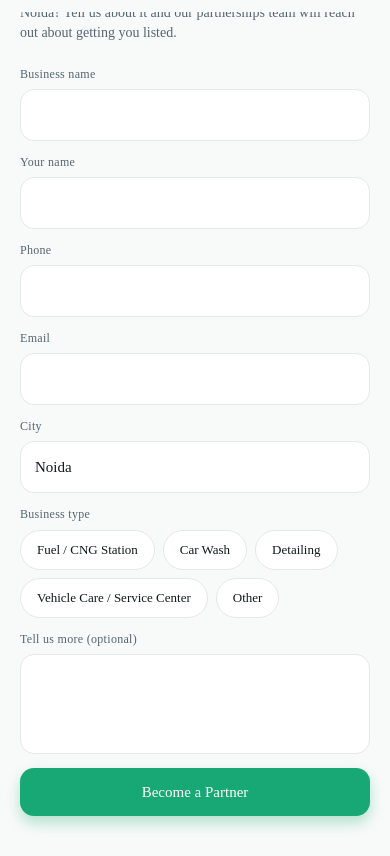
Test: Partner With Us › requires a business type and valid details
This screenshot has width=390, height=856.
(page scrolled)
Click the button "Become a Partner". click: (195, 792)
box: [20,768,370,816]
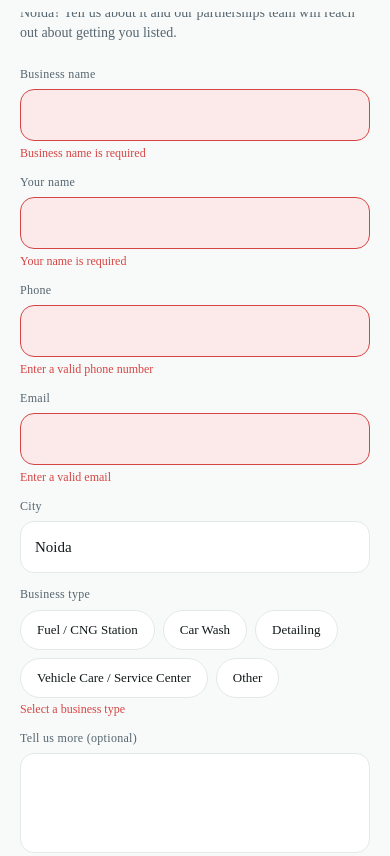
Now the text "Select a business type" is shown, box [20,702,125,716]
